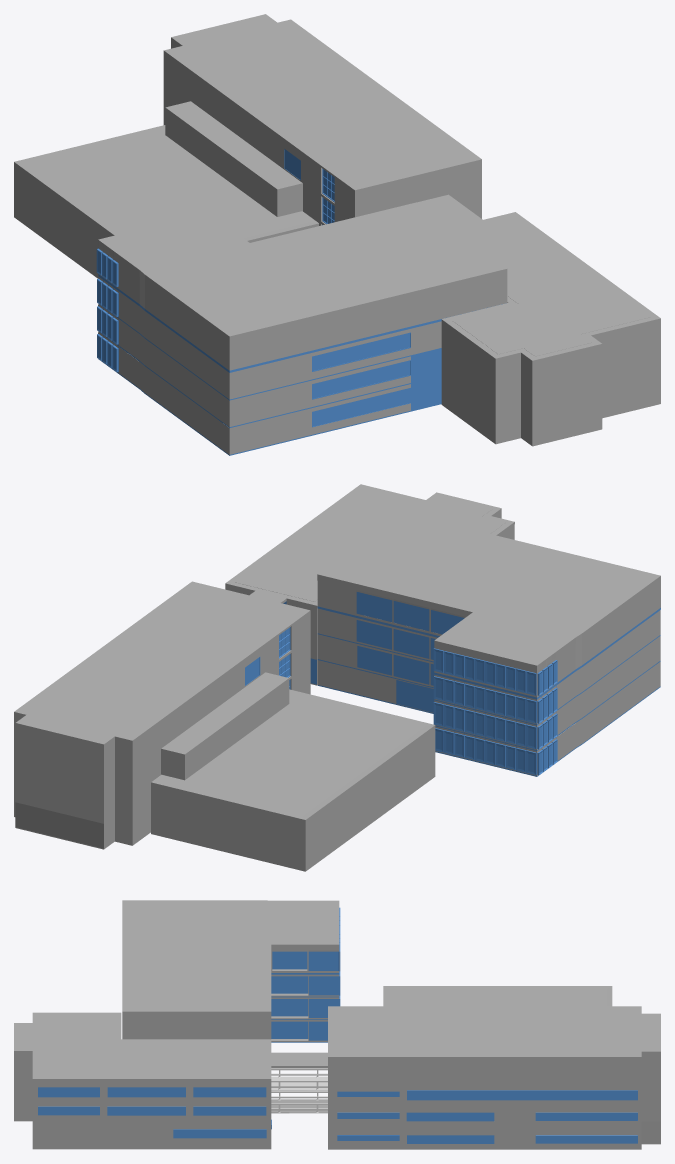
The model's file is Medicina1.0.fbx.
The picture shows the model from 3 angles, top to bottom: view 1: azimuth 30°, elevation 25°; view 2: azimuth 150°, elevation 25°; view 3: azimuth 270°, elevation 25°; orthographic projection. The views are drawn at different scales.
Visible parts, largest first — view 1: building_004.001; view 2: building_004.001; view 3: building_004.001.
Part boxes in pixels (x1=…): building_004.001: x1=14, y1=14, x2=660, y2=455; building_004.001: x1=14, y1=484, x2=660, y2=871; building_004.001: x1=14, y1=900, x2=660, y2=1149.
Size of the model in its own units: 5958 by 1793 by 10725.
